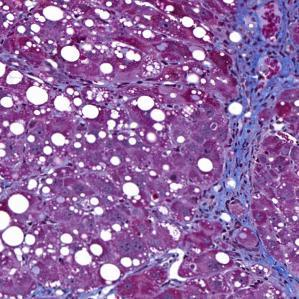fibrosis: (224, 0, 299, 110), (223, 249, 299, 299), (216, 138, 262, 220)
